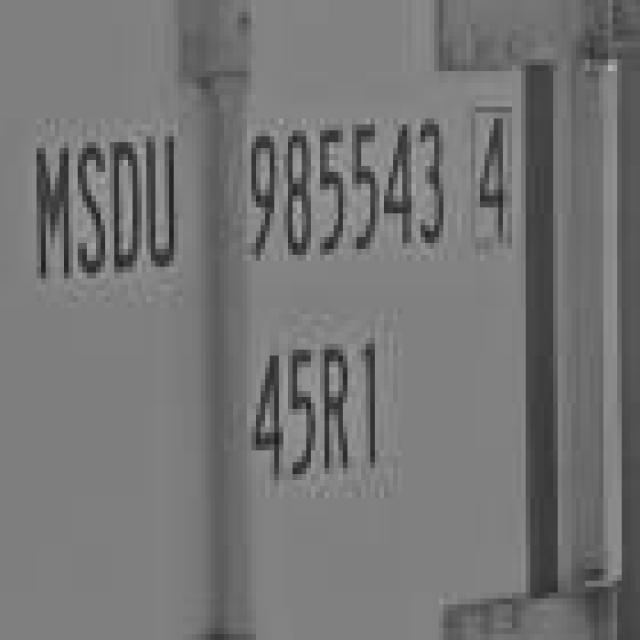dv: (471, 96, 525, 254)
owner: (16, 120, 185, 288)
serial: (244, 107, 448, 265)
size: (246, 332, 394, 491)
